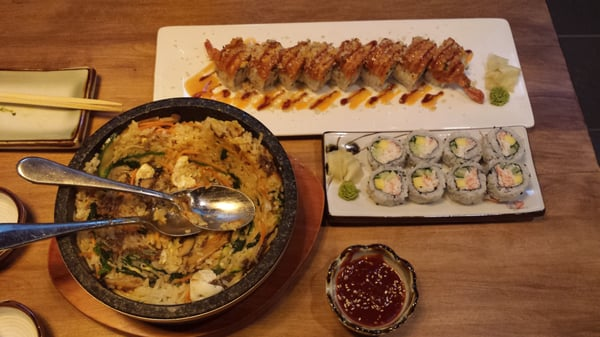salad: (15, 157, 250, 230)
sushi: (50, 97, 299, 324), (326, 243, 418, 334)
